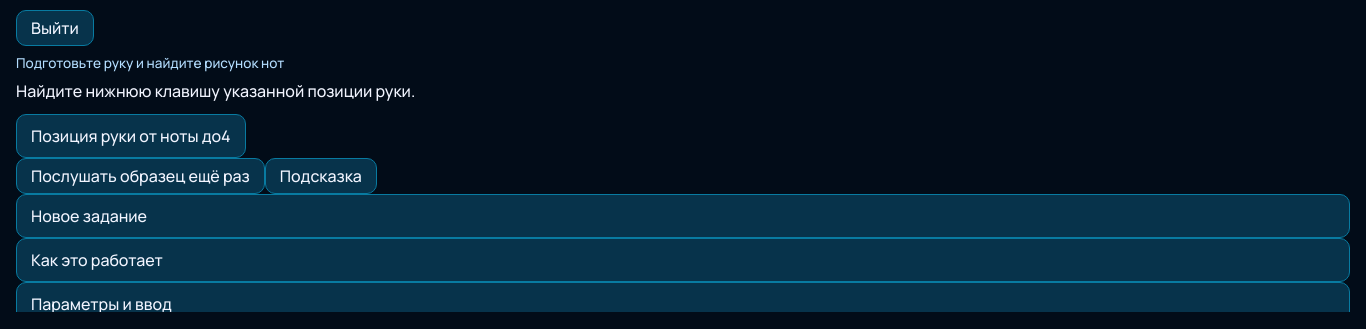
phase actions and real response modality › keeps preparation choices available without starting a preview on its own
Click the button "Позиция руки от ноты до4" at coordinates (131, 136), box 16,114 -> 246,158
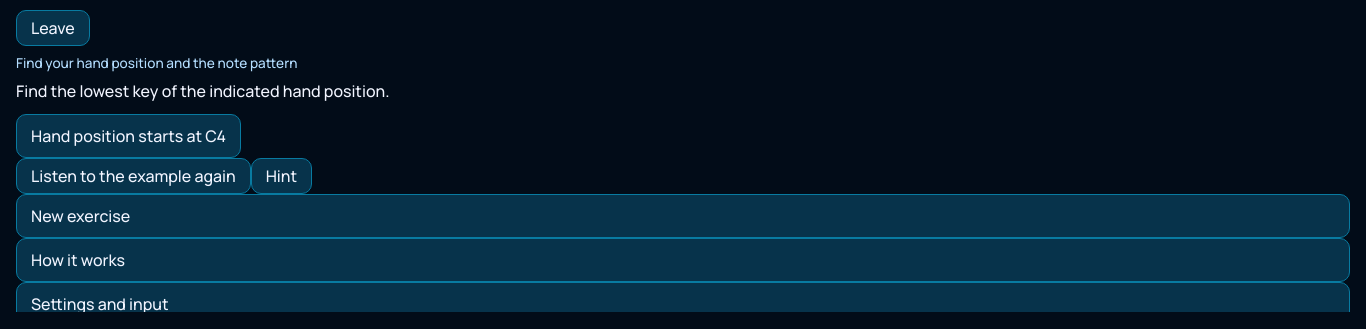
Now the button "Hand position starts at C4" is shown, box 16,114 -> 241,158
